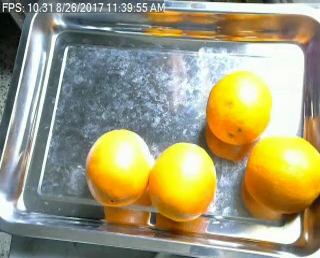Orange: (246, 133, 320, 214), (151, 140, 217, 220), (86, 129, 152, 207), (206, 70, 271, 144)
